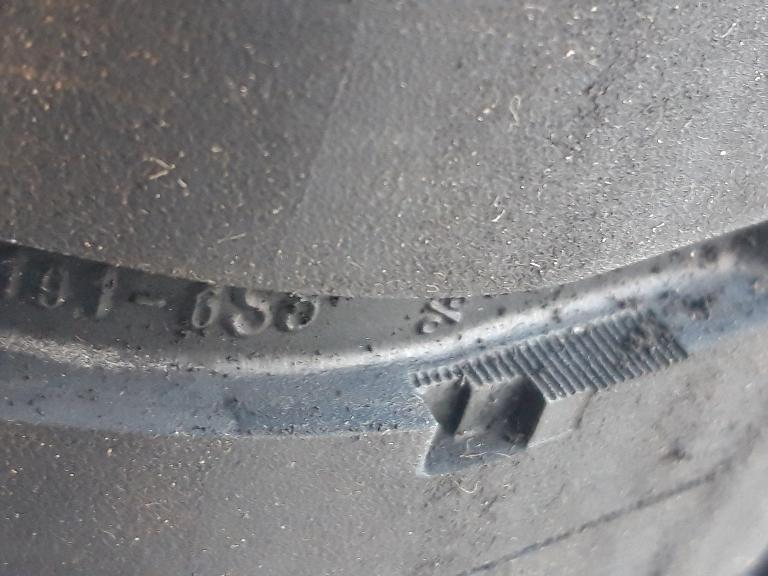temoin:50: (402, 328, 606, 488)
